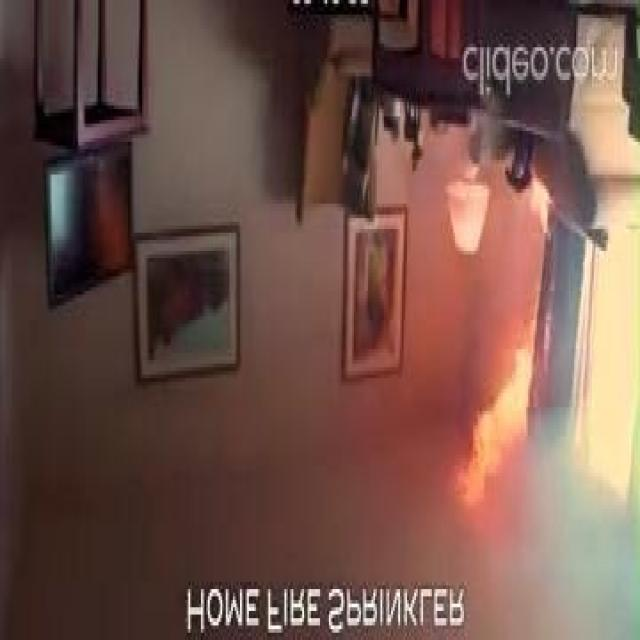fire: (452, 306, 558, 534)
